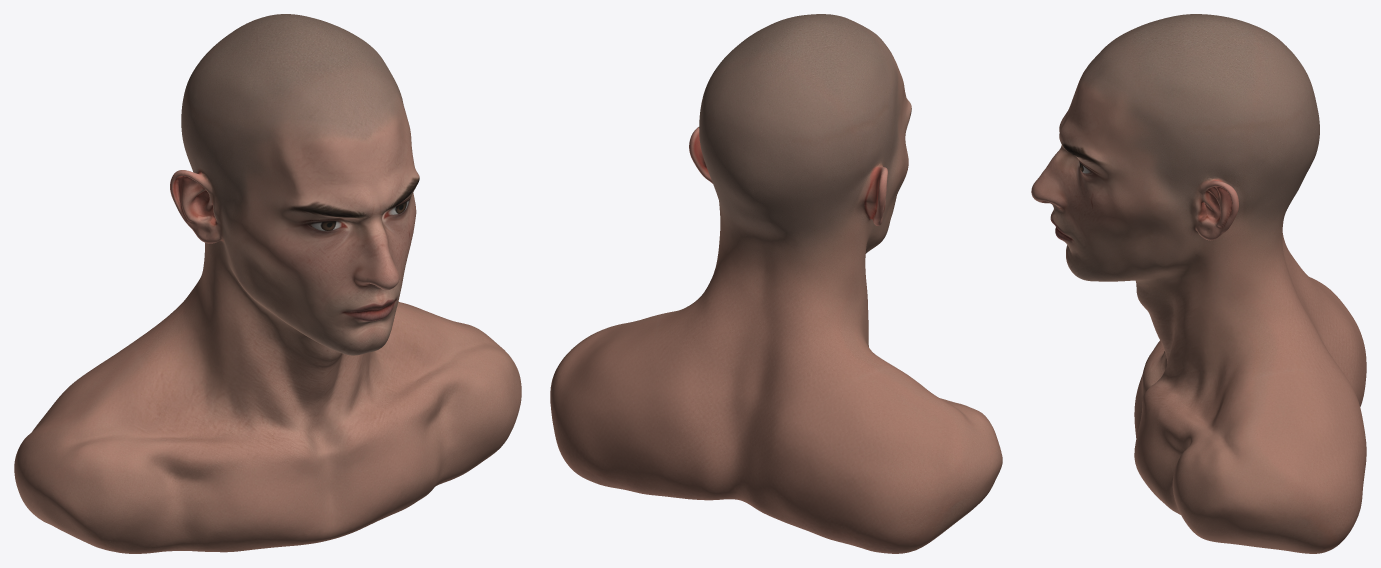
Rendered from Rosto_1.glb.
3 renders of one model, left to right at view 1: azimuth 30°, elevation 25°; view 2: azimuth 150°, elevation 25°; view 3: azimuth 270°, elevation 25°, orthographic. The views are drawn at different scales.
Size of the model in its own units: 1.88 by 1.9 by 1.26.
1 material, 1 textured.
